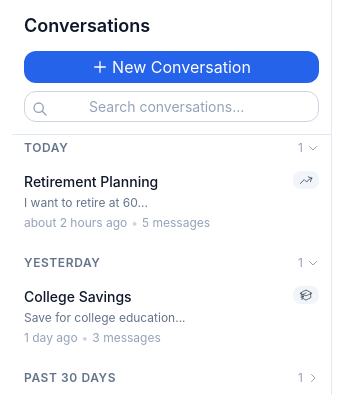
Test: ThreadSidebar › filters threads based on search query
Type "retirement" into the field with placeholder "Search conversations..." at (172,106), box [24,91,319,122]
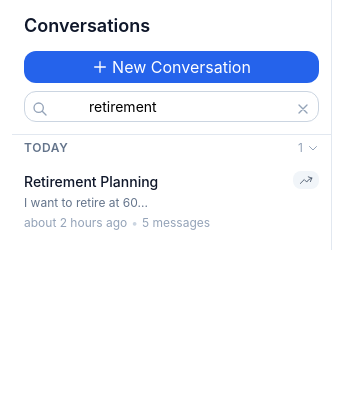
Check: the heading "Retirement Planning" is shown, box [24,173,158,190]
Check: the button "College Savings" is gone
